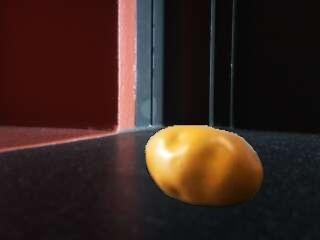Potato: (142, 123, 263, 207)
